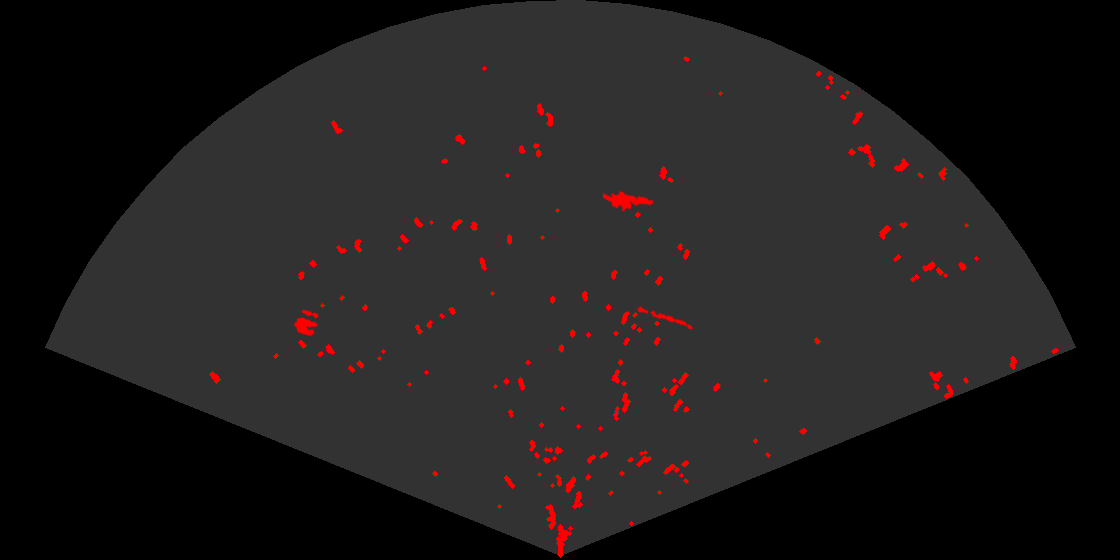ball: (293, 308, 320, 338)
chain: (635, 305, 695, 331)
frogman: (603, 189, 655, 213)
